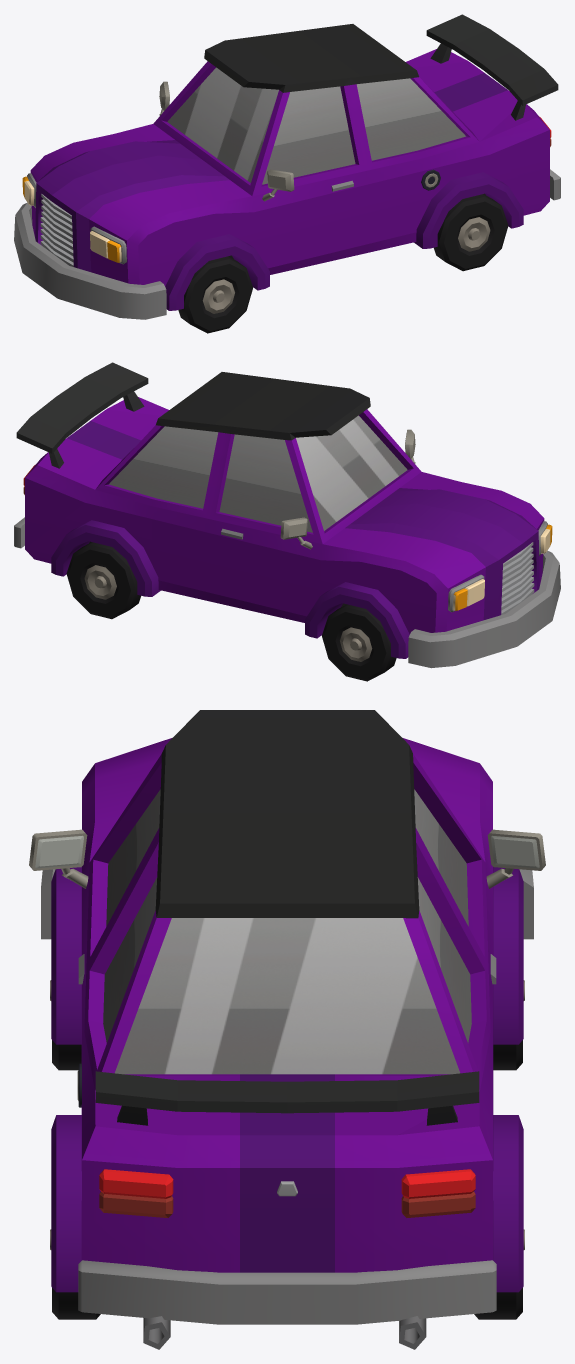
The model's file is Car_1_P.gltf.
3 views of the same model, one above another, from view 1: azimuth 30°, elevation 25°; view 2: azimuth 150°, elevation 25°; view 3: azimuth 270°, elevation 25° (orthographic). The views are drawn at different scales.
Visible parts, largest first — view 1: Car_1_P, RL, FL; view 2: Car_1_P, RR, FR; view 3: Car_1_P, RL, RR, FR, FL.
Part boxes in pixels (x1,y1,x2,y2): Car_1_P: (14,14,560,319); RL: (434,194,508,271); FL: (178,256,252,333); Car_1_P: (14,362,560,668); RR: (66,542,140,619); FR: (322,604,396,681); Car_1_P: (29,710,545,1349); RL: (50,1229,100,1319); RR: (474,1229,524,1319); FR: (493,980,524,1070); FL: (50,980,81,1070).
Size of the model in its own units: 3.64 by 1.5 by 1.7.
4 materials, 4 textured.
